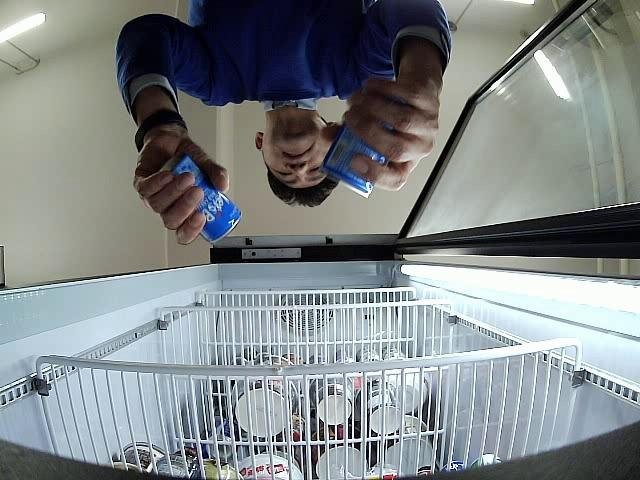00_hand: (345, 57, 443, 192), (133, 139, 229, 244)
15_letsbe: (159, 154, 241, 243), (321, 124, 389, 198)
